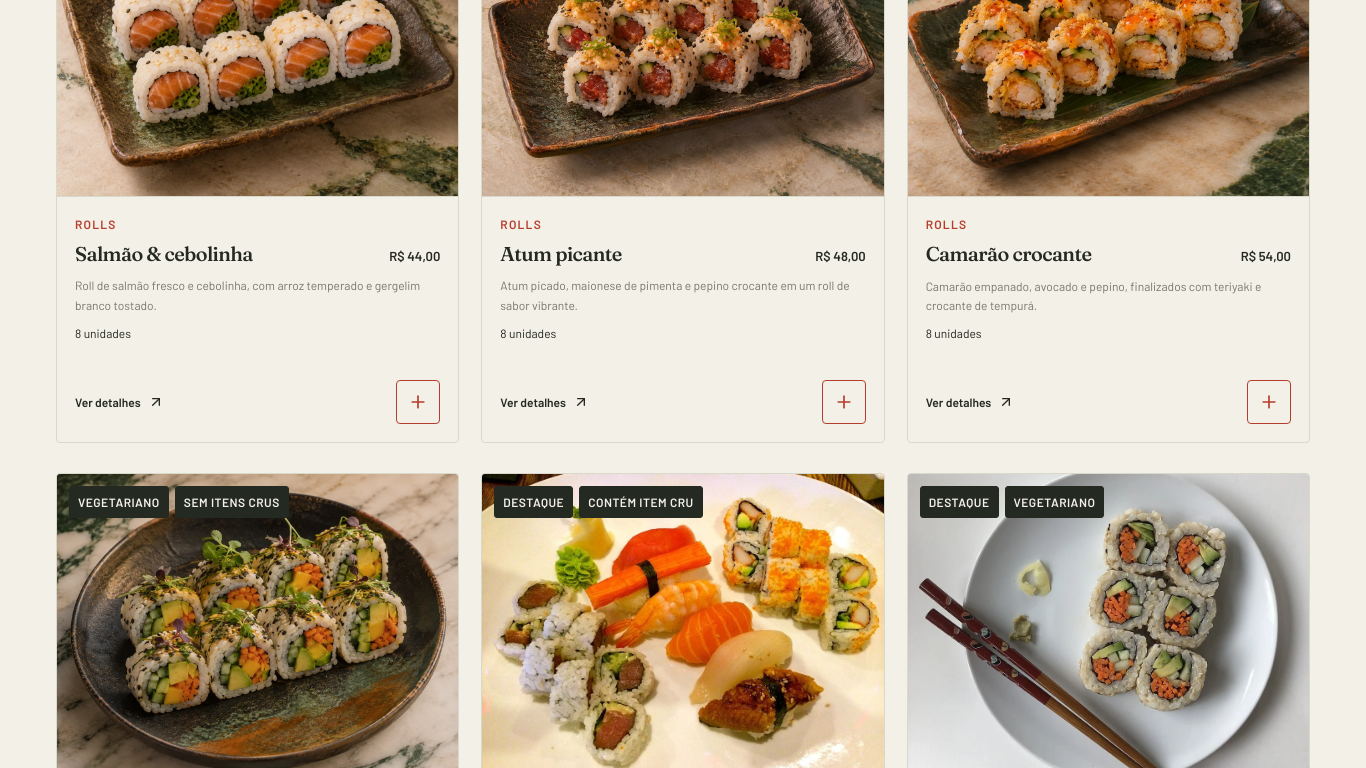
DigitalMenu › configura o Atum picante, calcula quantidade e envia as opções escolhidas
(page scrolled)
Click the button with aria-label "Ver detalhes de Atum picante" at (545, 402), box [500,380,589,424]
(page scrolled)
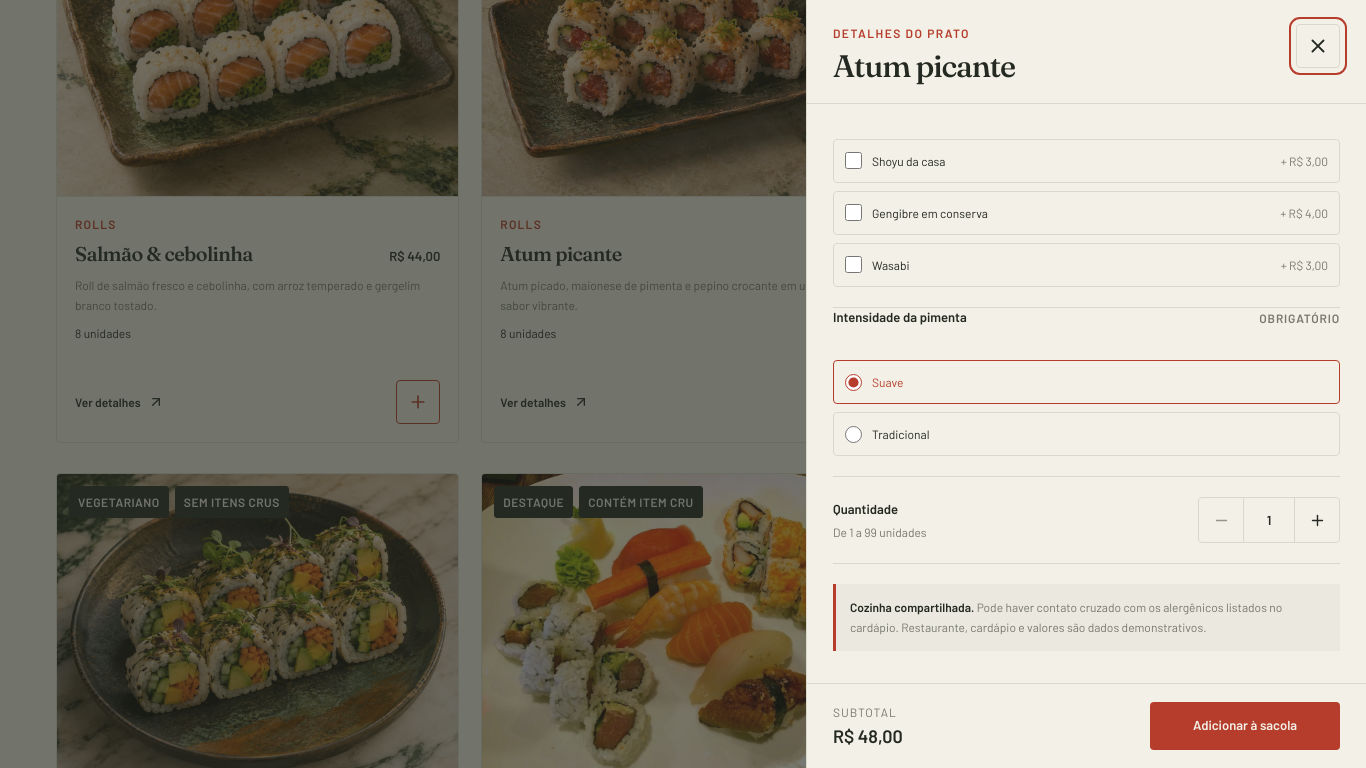
Expected: the radio button labelled "Suave" is checked, [845,374,862,391]
Click the radio button labelled "Tradicional" at (854, 434), box [845,426,862,443]
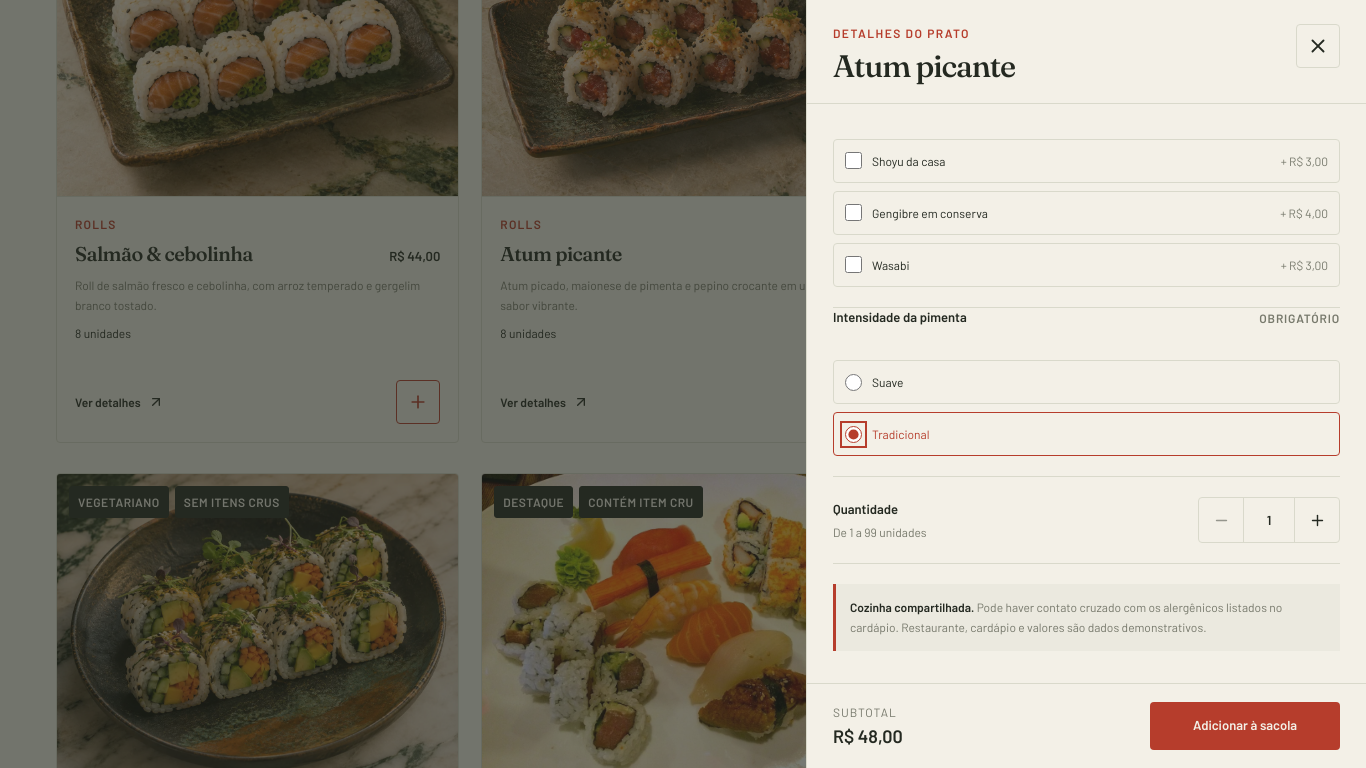
Expected: the radio button labelled "Tradicional" is checked, [845,426,862,443]
Expected: the radio button labelled "Suave" is not checked, [845,374,862,391]
Click the checkbox labelled "Wasabi + R$ 3,00" at (854, 265), box [845,256,862,273]
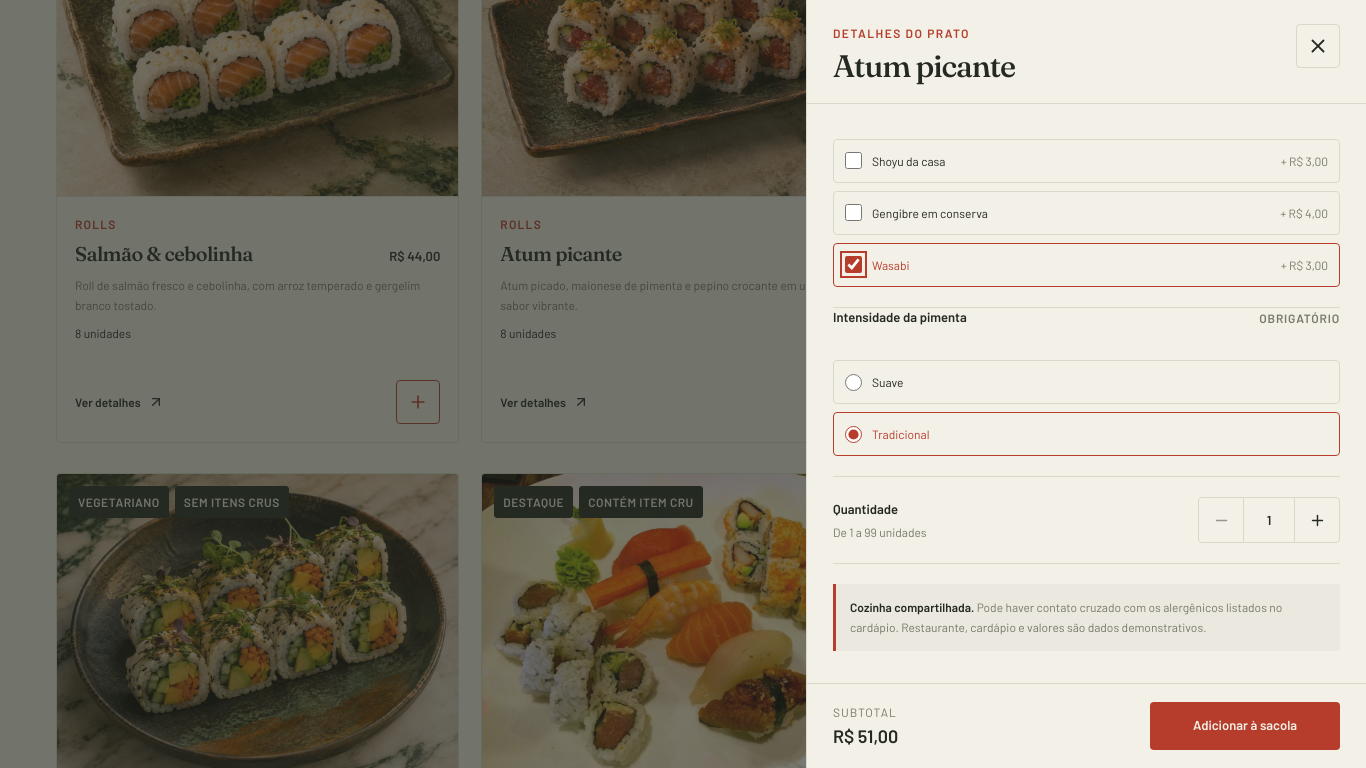
Click the button named "Aumentar quantidade" at (1317, 520), box [1295,498,1339,542]
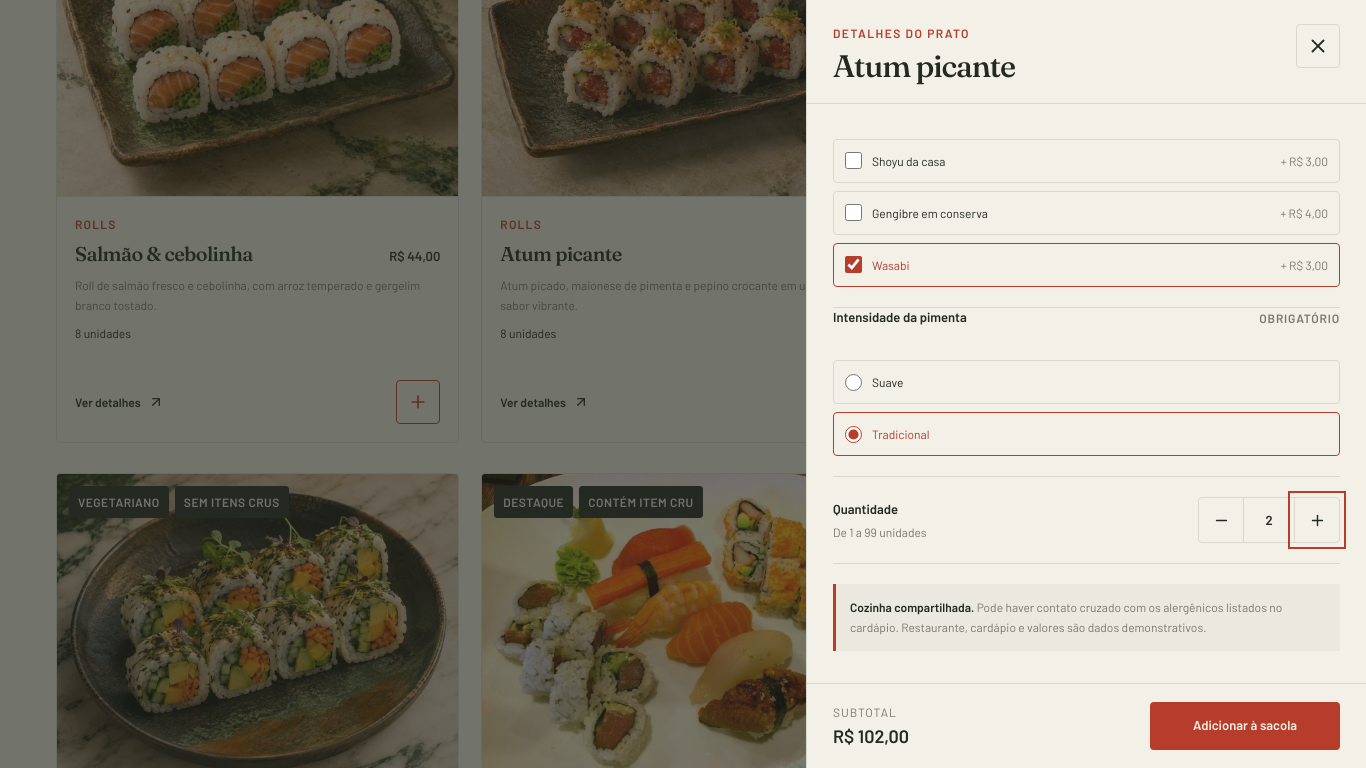
Expected: the text "R$ 102,00" is shown, [833,724,909,746]
Click the button "Adicionar à sacola" at (1245, 726), box [1150,702,1340,750]
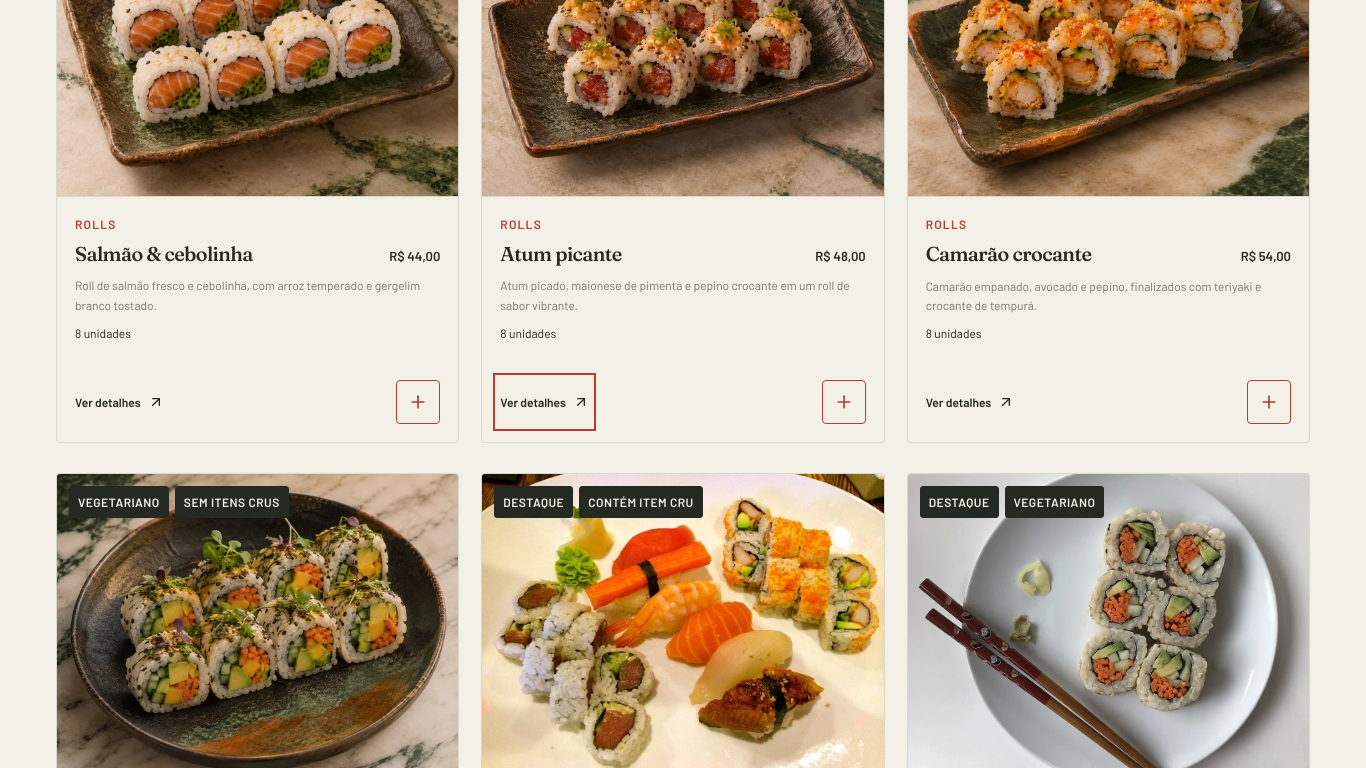
Expected: the dialog is gone
